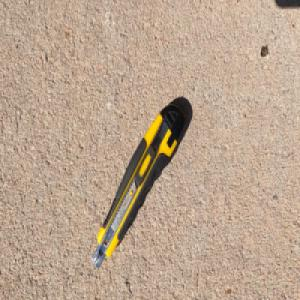Cutter: (90, 98, 188, 271)
